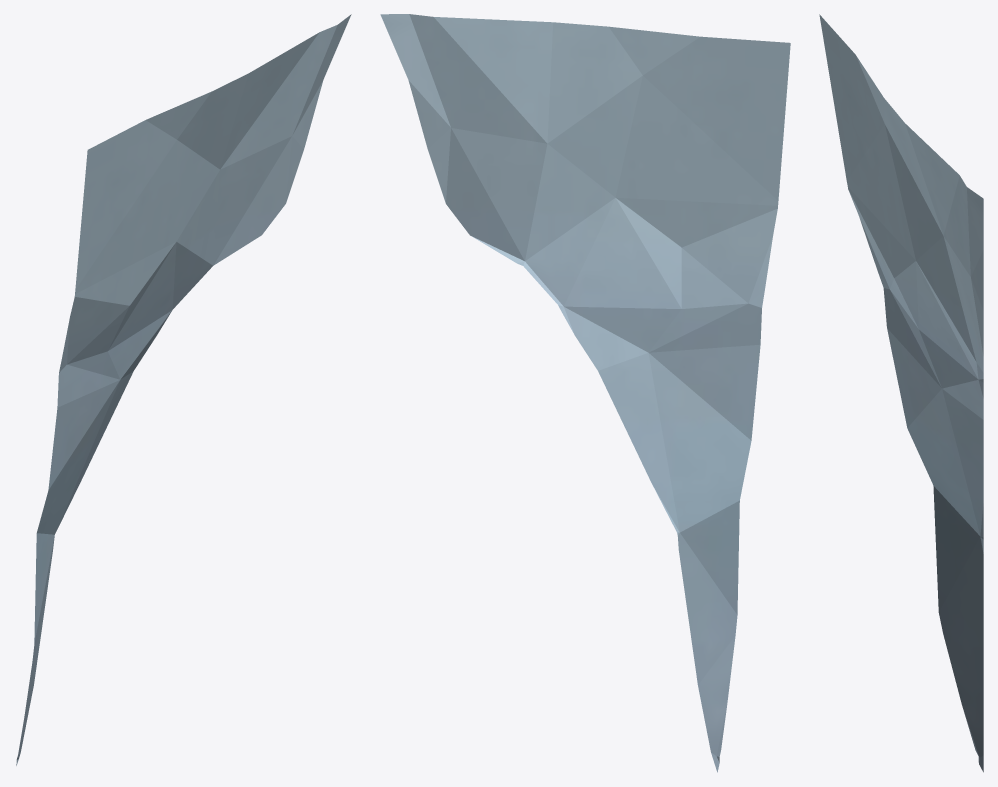
3 views of the same model, side by side, from view 1: azimuth 30°, elevation 25°; view 2: azimuth 150°, elevation 25°; view 3: azimuth 270°, elevation 25° (orthographic). The views are drawn at different scales.
Bounding box in the file's own units: 0.7672 × 1.47 × 0.2886.
1 material, 1 textured.
